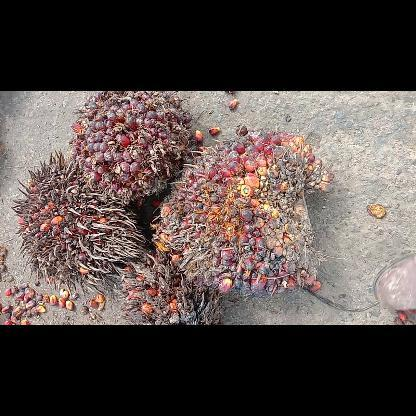TBS masak: (152, 124, 333, 296), (68, 91, 196, 204)
Terlalu masak: (12, 150, 144, 298), (116, 250, 222, 324)
